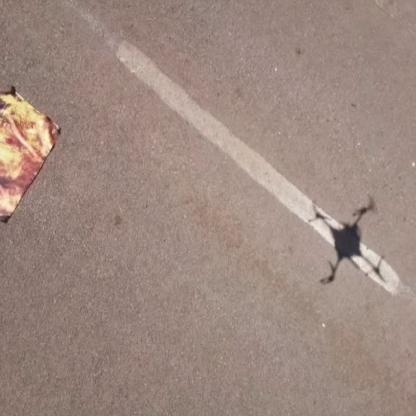fire-poster: (0, 84, 62, 226)
